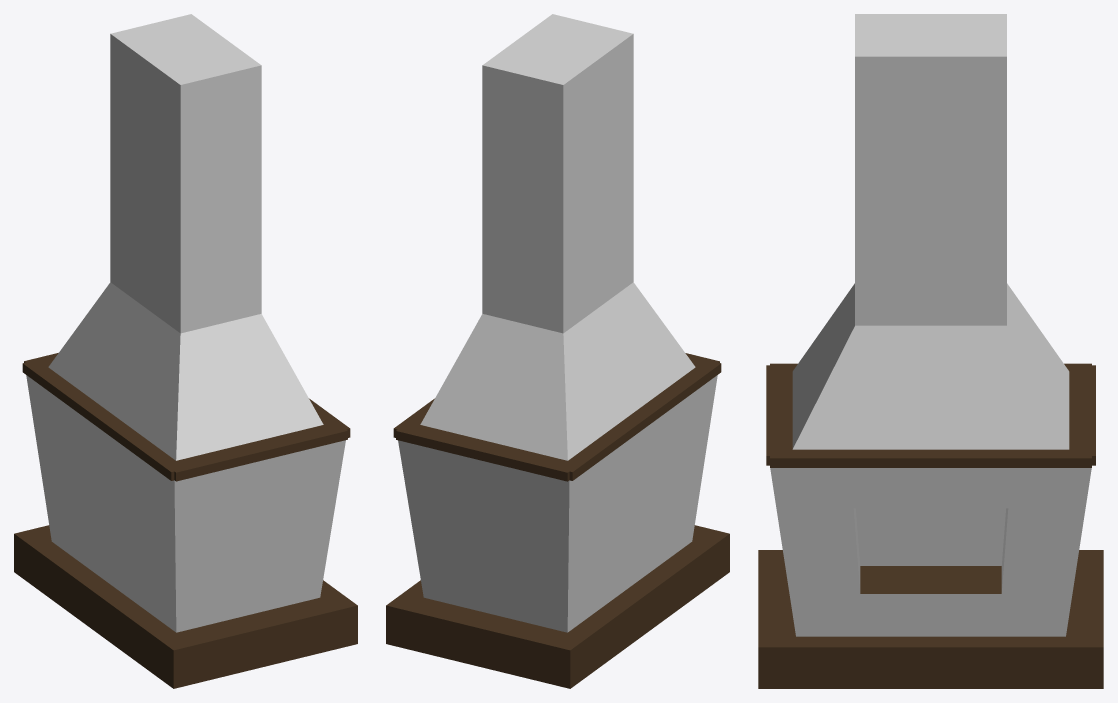
The model's file is Chimenea.fbx.
3 renders of one model, left to right at view 1: azimuth 30°, elevation 25°; view 2: azimuth 150°, elevation 25°; view 3: azimuth 270°, elevation 25°, orthographic. The views are drawn at different scales.
Parts seen in each view (by area): view 1: Chimenea; view 2: Chimenea; view 3: Chimenea.
Part boxes in pixels (x1=…): Chimenea: x1=14, y1=14, x2=357, y2=688; Chimenea: x1=386, y1=14, x2=729, y2=688; Chimenea: x1=758, y1=14, x2=1103, y2=688.
Bounding box in the file's own units: 200 × 580 × 300.
